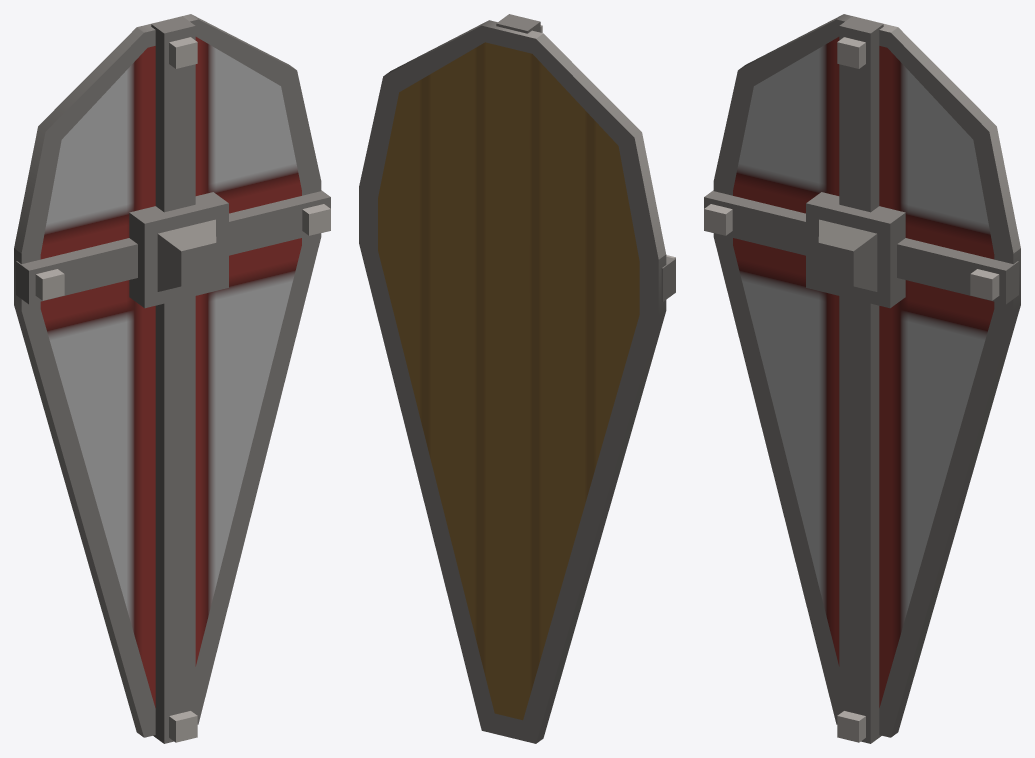
File: SF_Wep_KiteShield_Symbol_02.fbx
3 views of the same model, side by side, from view 1: azimuth 30°, elevation 25°; view 2: azimuth 150°, elevation 25°; view 3: azimuth 330°, elevation 25° (orthographic).
Visible parts, largest first — view 1: SF_Wep_KiteShield_Symbol_02; view 2: SF_Wep_KiteShield_Symbol_02; view 3: SF_Wep_KiteShield_Symbol_02.
Boxes of the visible parts, bbox=[...] form: SF_Wep_KiteShield_Symbol_02: bbox=[14, 14, 330, 743]; SF_Wep_KiteShield_Symbol_02: bbox=[359, 14, 675, 743]; SF_Wep_KiteShield_Symbol_02: bbox=[704, 14, 1020, 743].
Size of the model in its own units: 0.9946 by 2.24 by 0.1992.
